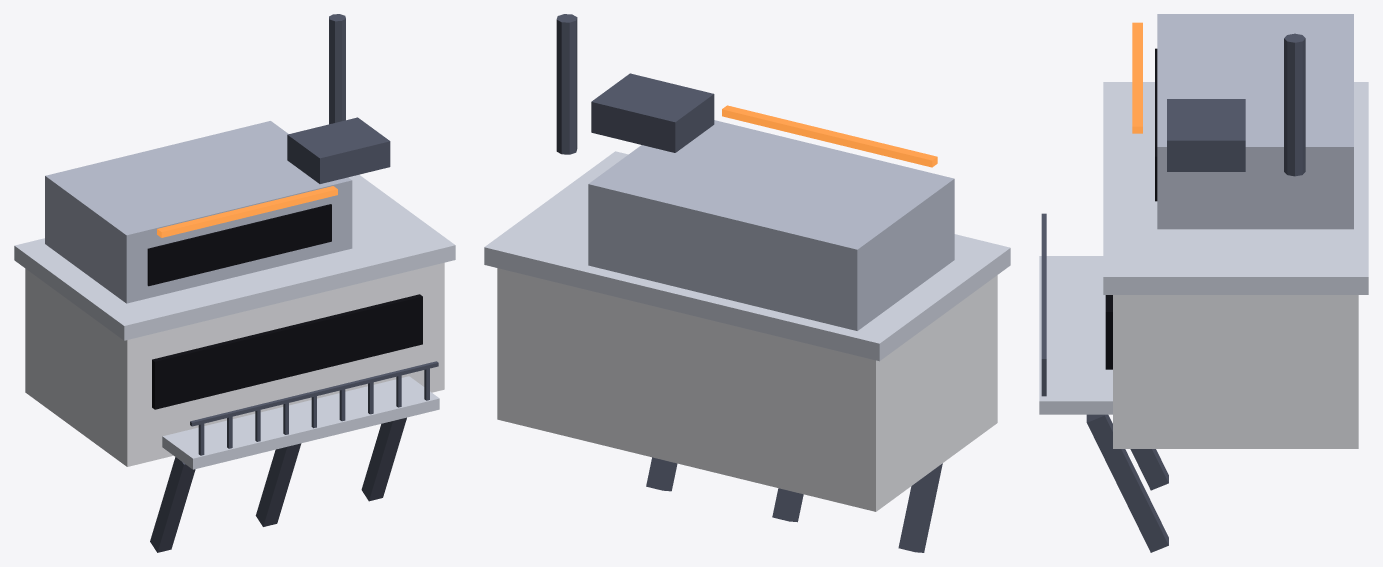
File: jungle_hab_block.glb
3 views of the same model, side by side, from view 1: azimuth 30°, elevation 25°; view 2: azimuth 150°, elevation 25°; view 3: azimuth 270°, elevation 25° (orthographic). The views are drawn at different scales.
Visible parts, largest first — view 1: jungle_hab_block; view 2: jungle_hab_block; view 3: jungle_hab_block.
Boxes of the visible parts, x1=… form: jungle_hab_block: x1=14, y1=14, x2=455, y2=552; jungle_hab_block: x1=484, y1=14, x2=1010, y2=552; jungle_hab_block: x1=1039, y1=14, x2=1368, y2=552.
Size of the model in its own units: 9.4 by 11.74 by 6.7.
